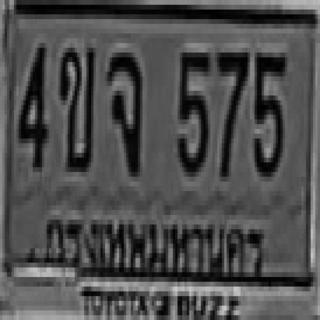A02: (58, 43, 94, 167)
A08: (105, 48, 140, 172)
N04: (16, 38, 44, 167)
N05: (252, 48, 285, 172), (175, 48, 208, 172)
N07: (215, 48, 248, 177)
P04: (44, 204, 267, 289)
